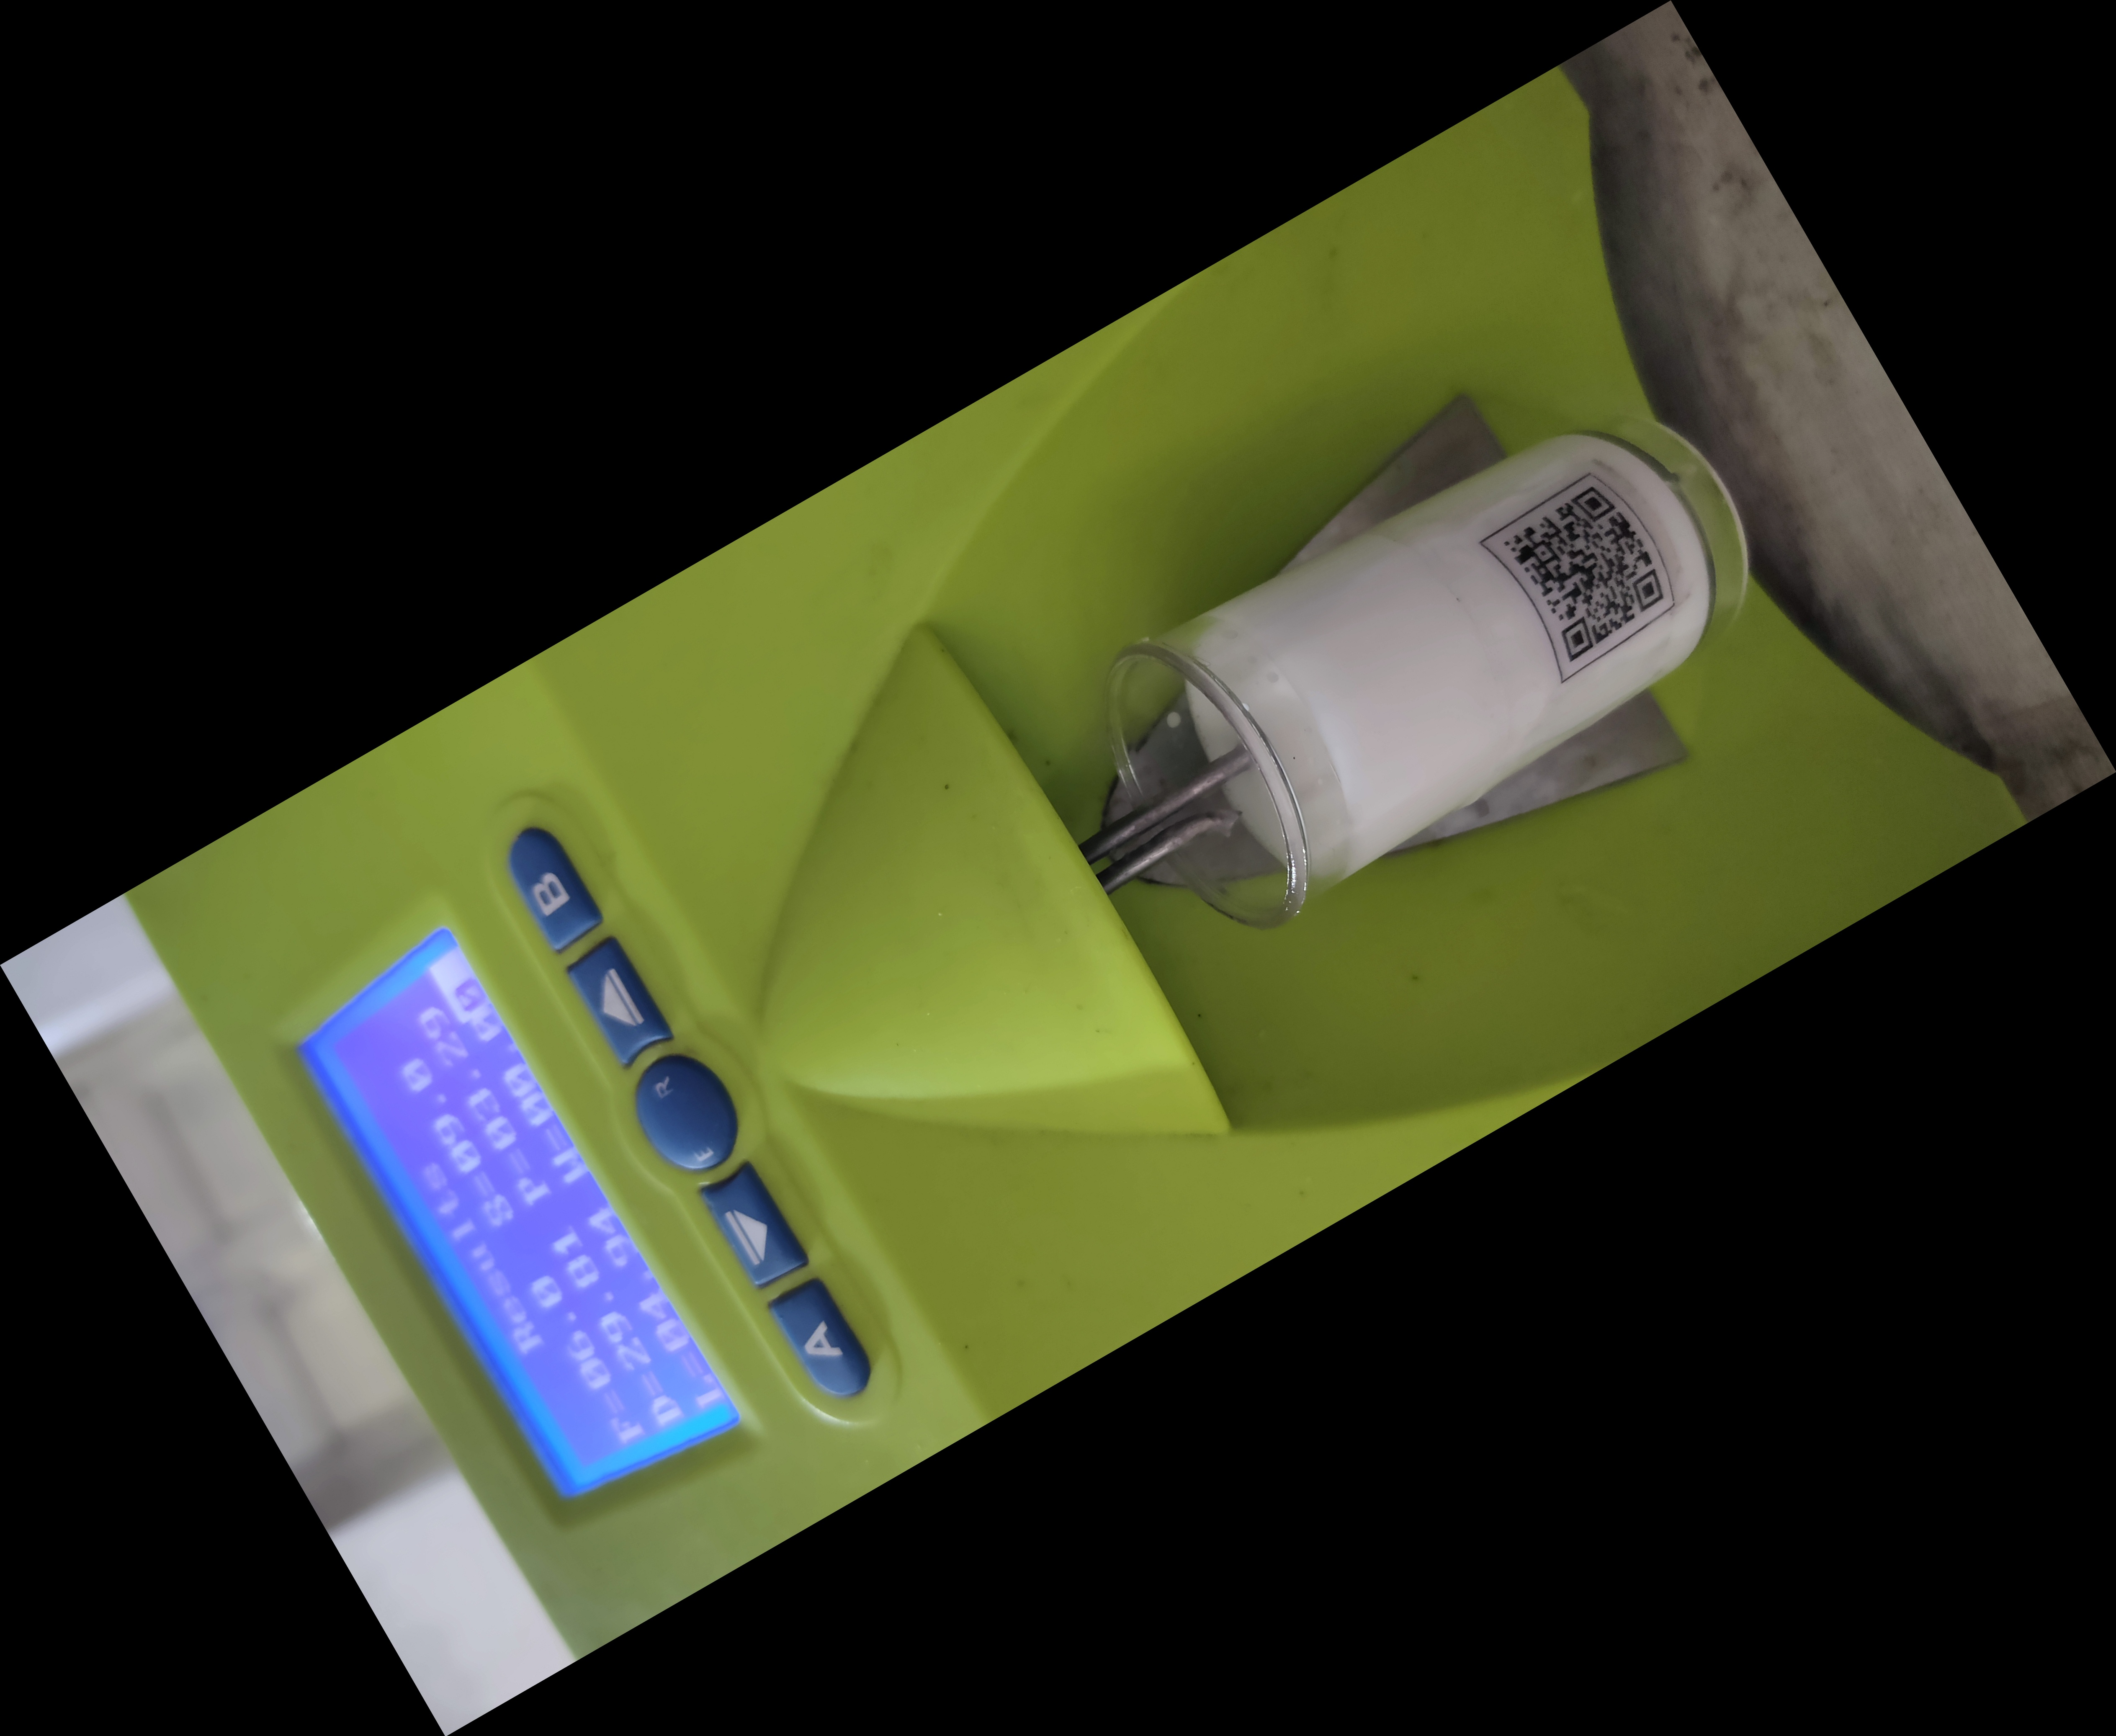lcd: (281, 907, 766, 1530)
qr: (1483, 452, 1698, 684)
